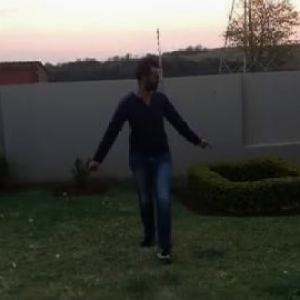land: (67, 48, 230, 276)
